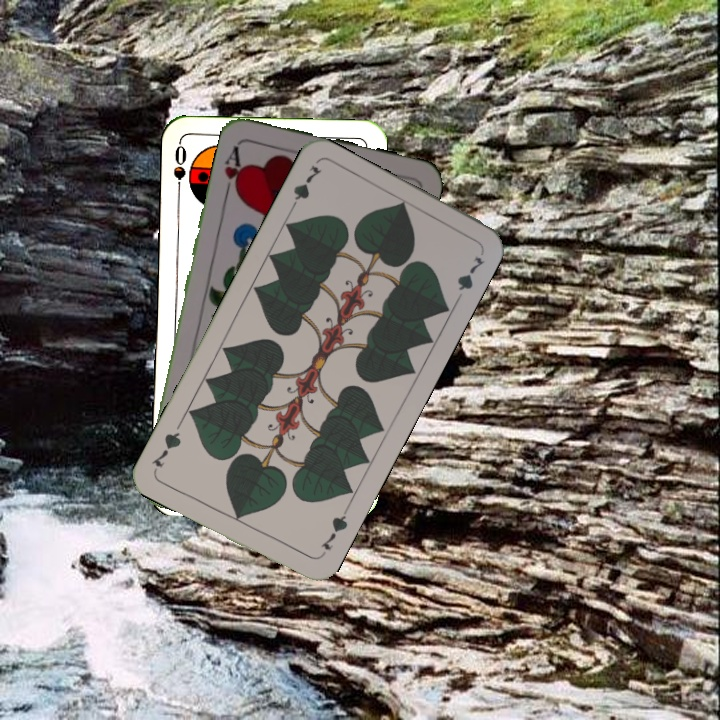G7: (285, 161, 325, 215), (316, 505, 351, 553)
HA: (220, 140, 248, 199)
SO: (169, 140, 189, 199)
